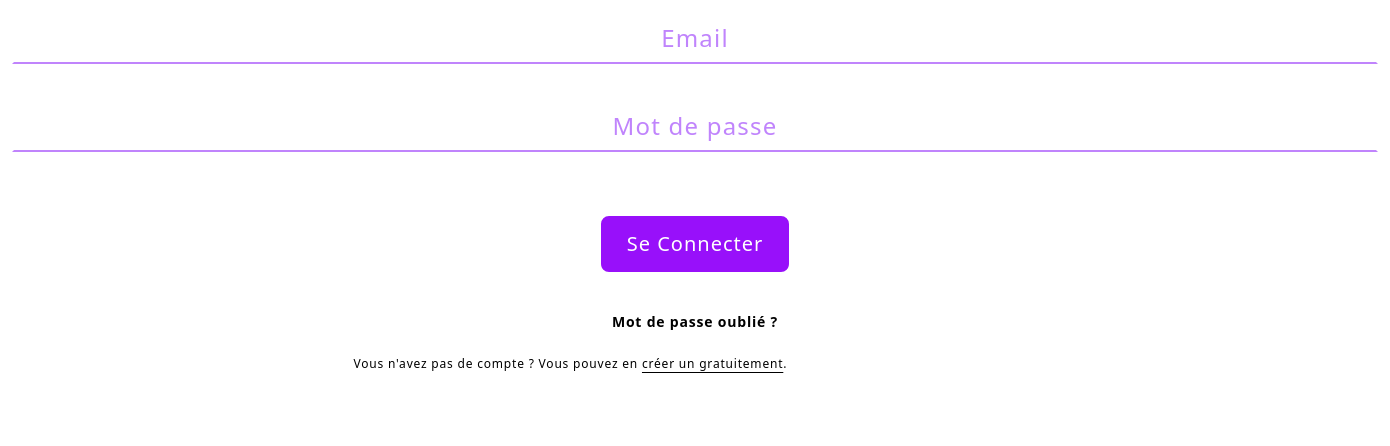
Test case: LoginForm › affiche un message d'erreur si l'API rejette la requête
In the field with placeholder "Email": (695, 38) [12,12,1378,64], type "admin@example.fr"
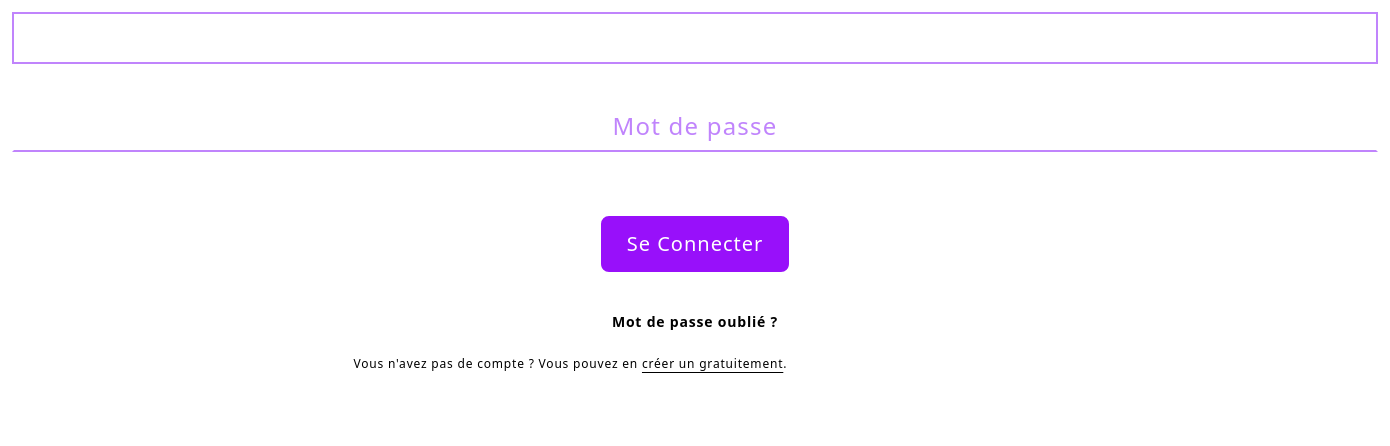
In the password field with placeholder "Mot de passe": (695, 126) [12,100,1378,152], type "wrongpassword"
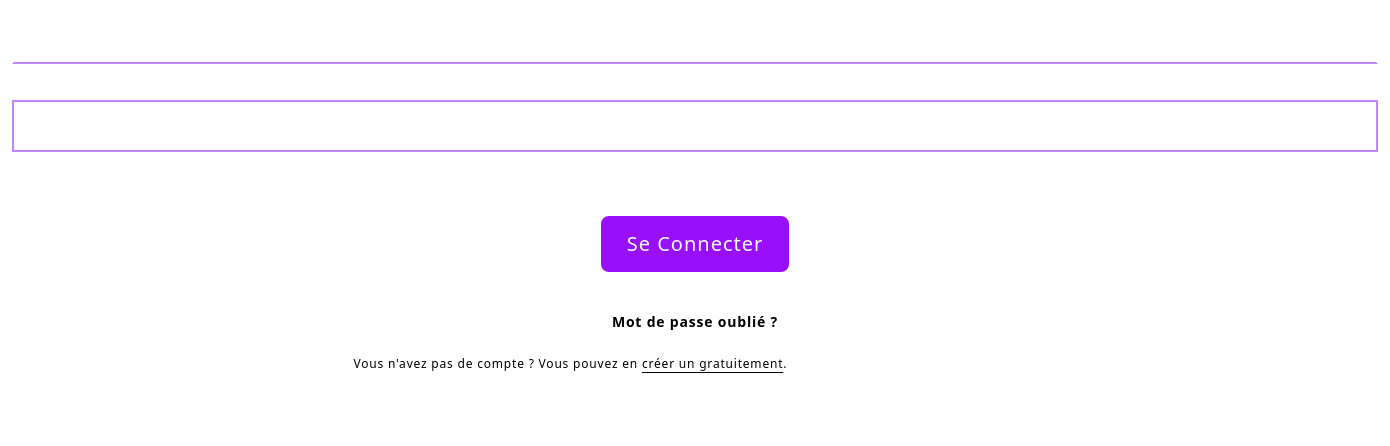
Click the button "Se Connecter": (695, 244) [601,216,789,272]
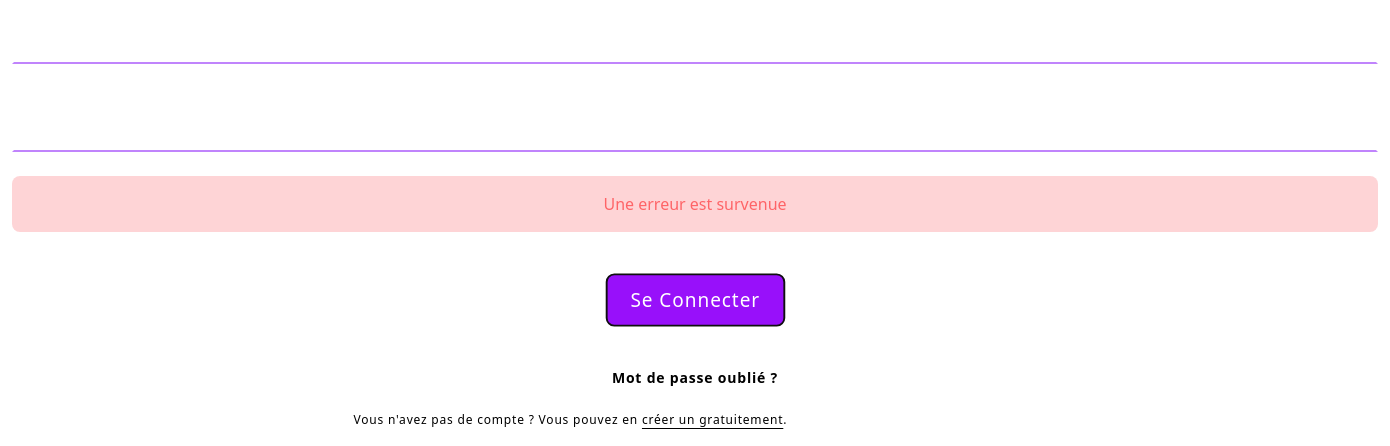
Now the text "Une erreur est survenue" is shown, box [12,176,1378,232]
